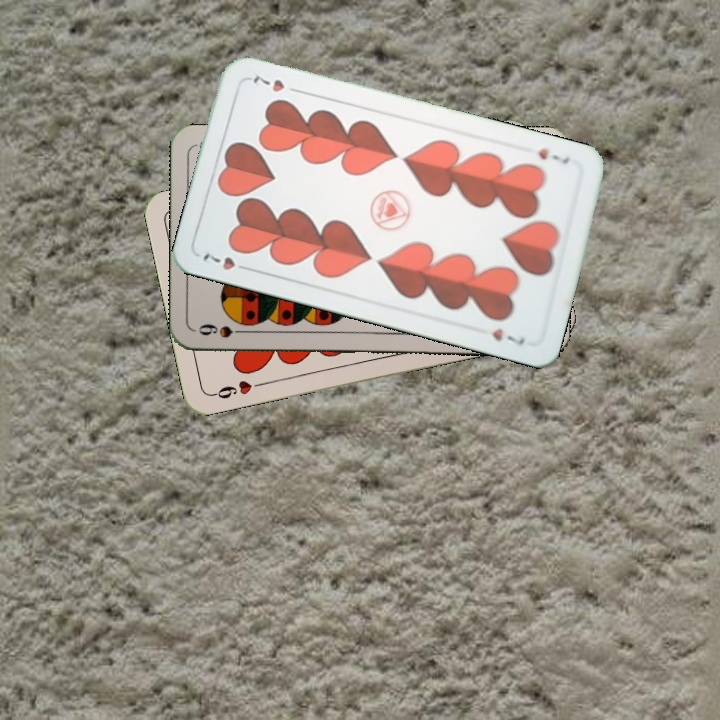H7: (199, 248, 254, 274), (533, 143, 572, 168)
H9: (208, 376, 267, 402)
S9: (194, 320, 253, 341)
